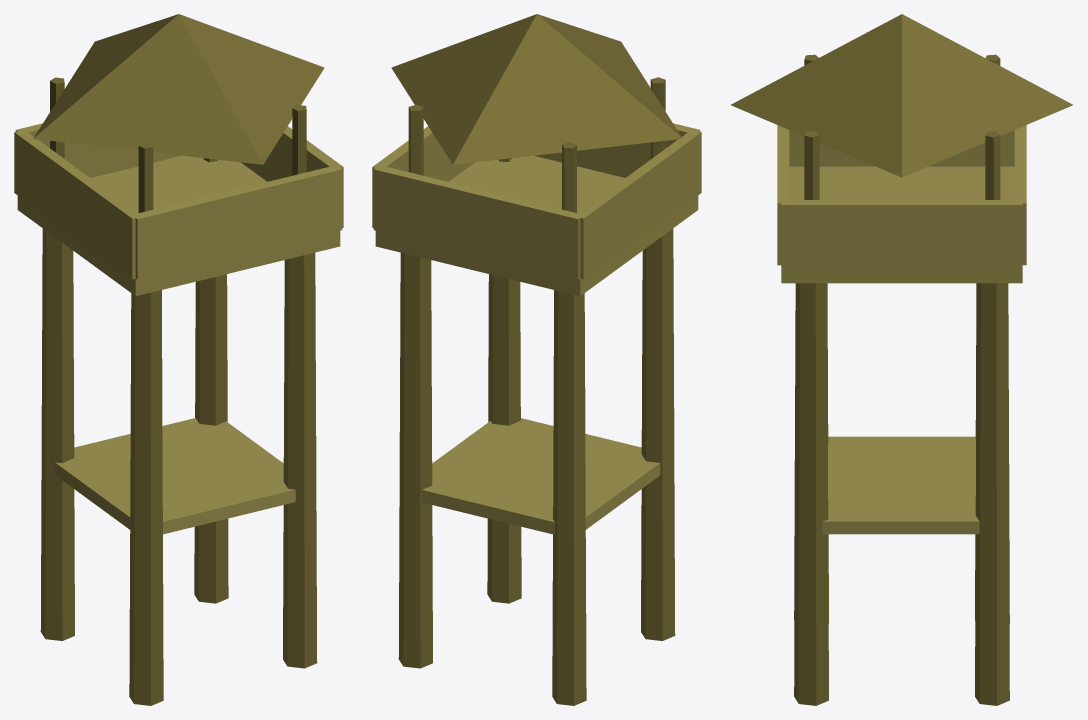
Rendered from frog_tower.glb.
3 views of the same model, side by side, from view 1: azimuth 30°, elevation 25°; view 2: azimuth 150°, elevation 25°; view 3: azimuth 270°, elevation 25° (orthographic). The views are drawn at different scales.
Visible parts, largest first — view 1: frog_tower; view 2: frog_tower; view 3: frog_tower.
Boxes of the visible parts, x1=… form: frog_tower: x1=14, y1=14, x2=343, y2=705; frog_tower: x1=372, y1=14, x2=701, y2=705; frog_tower: x1=731, y1=14, x2=1072, y2=705.
Bounding box in the file's own units: 1.71 × 3.55 × 1.71.
